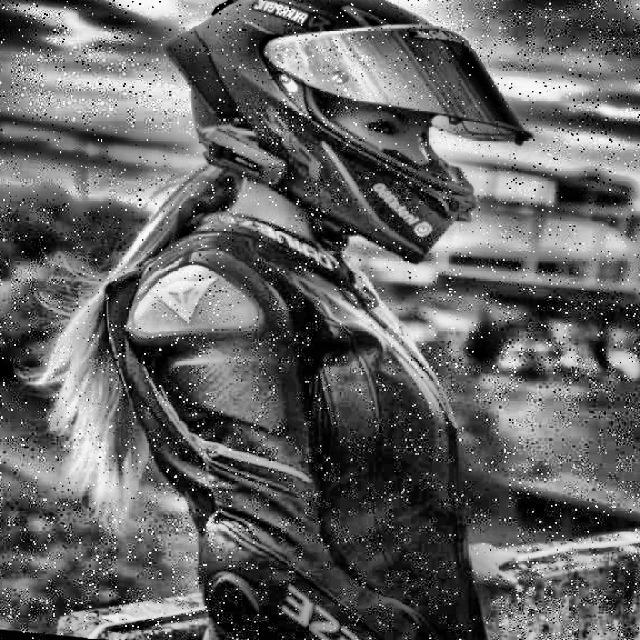Helmet: (151, 0, 542, 289)
